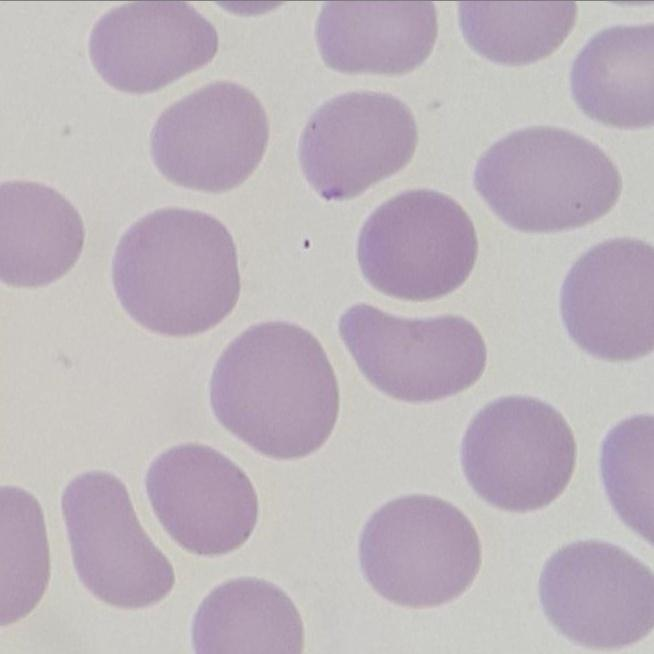Uninfected: (210, 322, 343, 457), (110, 209, 237, 339), (337, 301, 490, 406), (472, 129, 620, 237), (57, 472, 173, 607), (357, 496, 481, 610), (140, 442, 260, 556), (300, 91, 420, 205), (358, 189, 478, 302), (152, 84, 269, 195), (462, 396, 574, 510), (88, 0, 222, 95), (543, 537, 654, 644), (562, 239, 654, 363), (317, 0, 437, 77), (0, 181, 82, 291), (187, 574, 299, 654), (568, 24, 654, 125), (457, 0, 578, 66)
